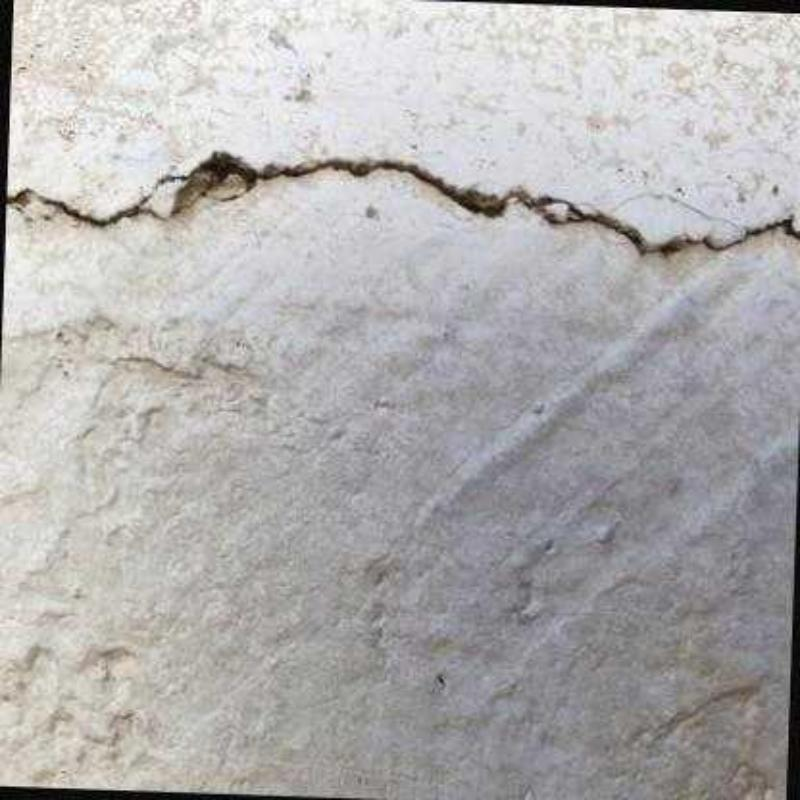crack: (7, 151, 798, 252), (610, 192, 744, 231)
